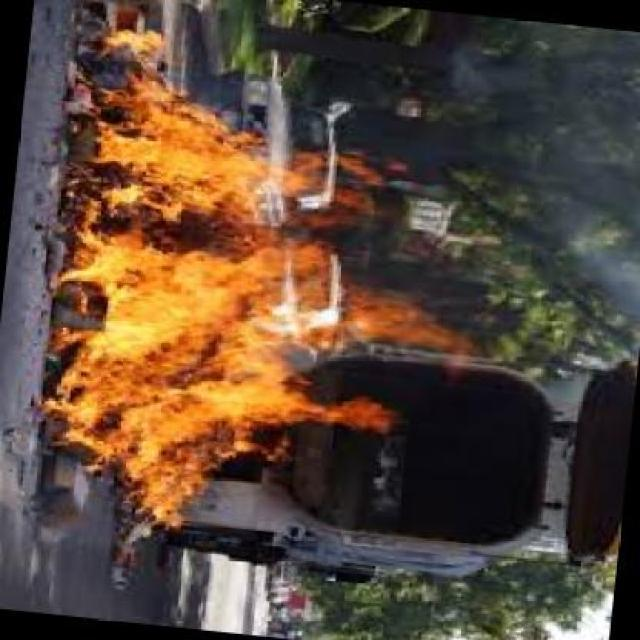Fire: (66, 22, 434, 532)
Smoke: (447, 29, 640, 315)
